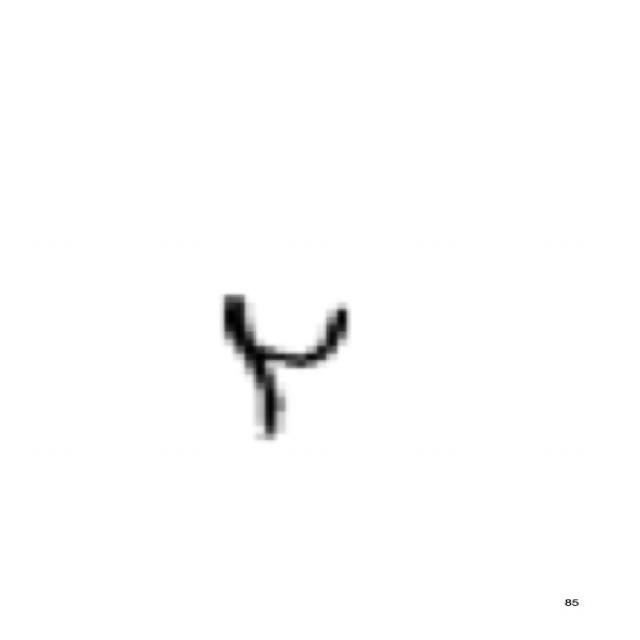3 -three-: (207, 284, 366, 452)
